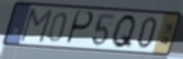0: (46, 11, 71, 43), (136, 16, 159, 50)
5: (91, 12, 118, 48)
M: (17, 7, 55, 46)
P: (64, 10, 96, 47)
Q: (109, 13, 138, 51)
